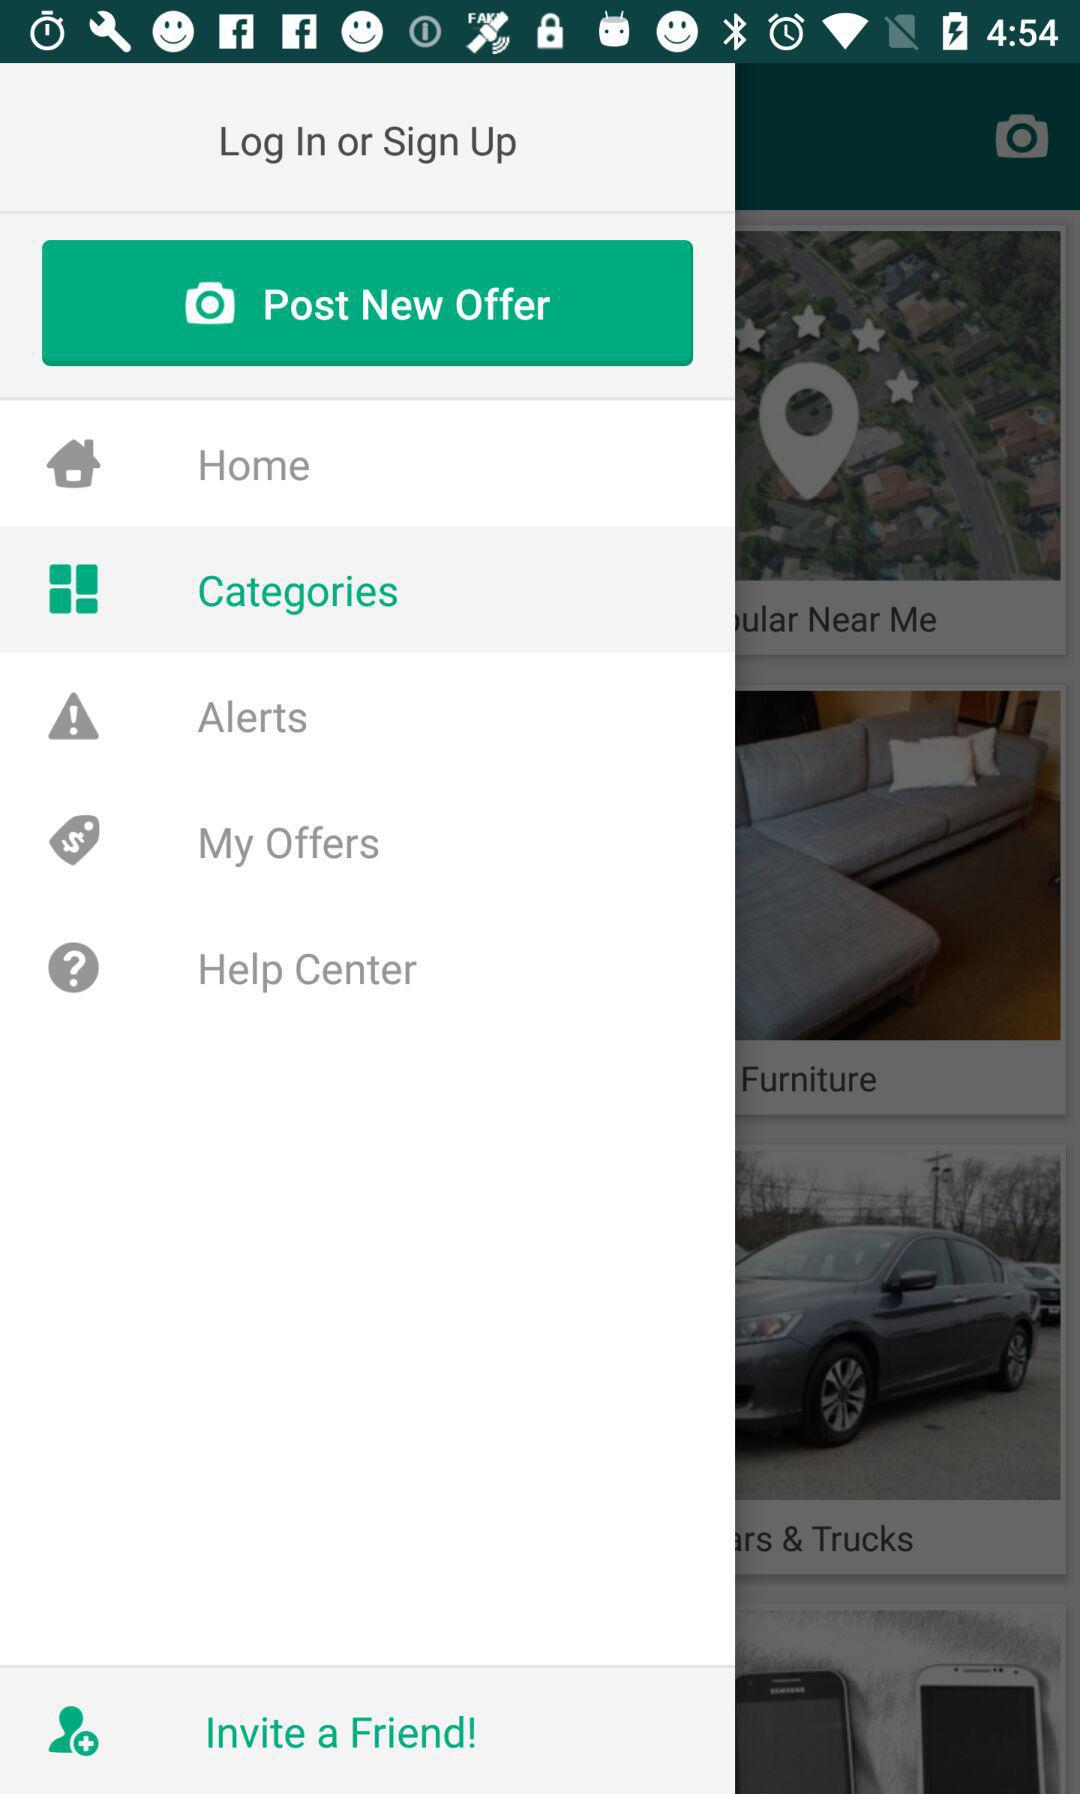Drawer: (1, 64, 735, 1794)
Icon: (46, 438, 102, 490), (47, 942, 100, 994), (49, 815, 101, 868), (49, 564, 100, 616), (47, 692, 100, 741)
Text: (222, 126, 518, 167), (200, 951, 419, 994), (199, 575, 398, 616), (200, 825, 380, 869), (199, 700, 307, 734), (200, 448, 311, 482)
TextButton: (1, 1666, 735, 1794), (42, 240, 694, 366)
UpperTaskBar: (1, 1, 1080, 64)
